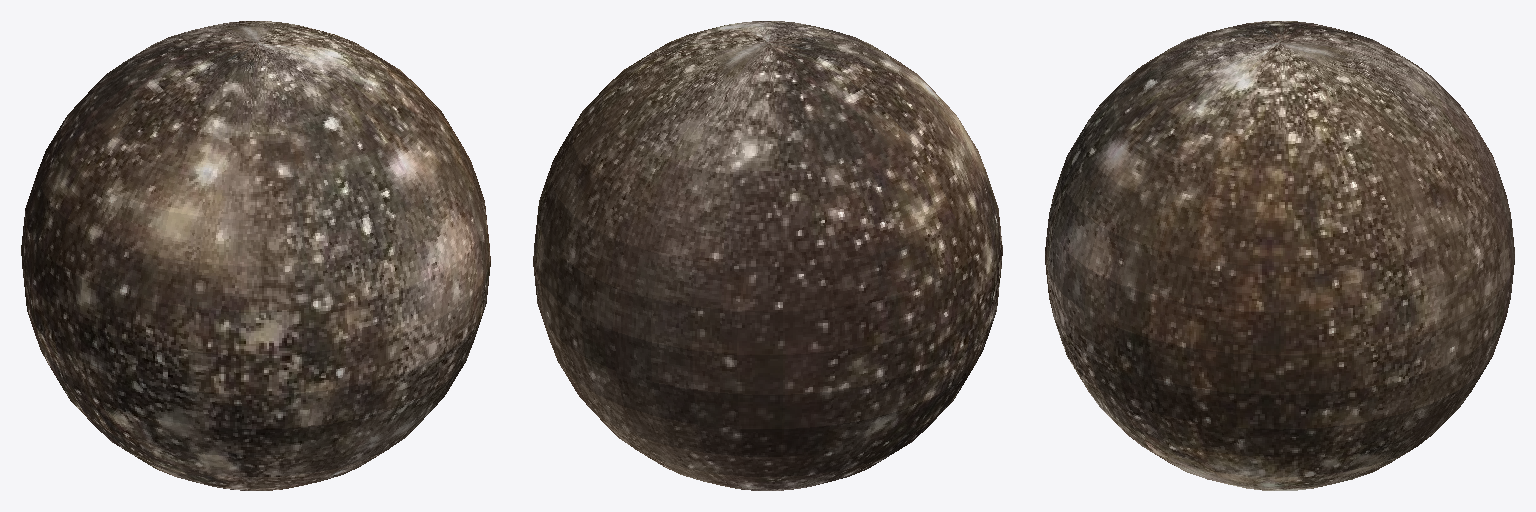
3 renders of one model, left to right at view 1: azimuth 30°, elevation 25°; view 2: azimuth 150°, elevation 25°; view 3: azimuth 270°, elevation 25°, orthographic.
Parts seen in each view (by area): view 1: Callisto_Sphere; view 2: Callisto_Sphere; view 3: Callisto_Sphere.
Boxes of the visible parts, x1,y1,x2,y2 form: Callisto_Sphere: [21, 21, 490, 490]; Callisto_Sphere: [533, 21, 1002, 490]; Callisto_Sphere: [1045, 21, 1514, 490].
Bounding box in the file's own units: 2 × 2 × 2.
1 materials, 1 textured.